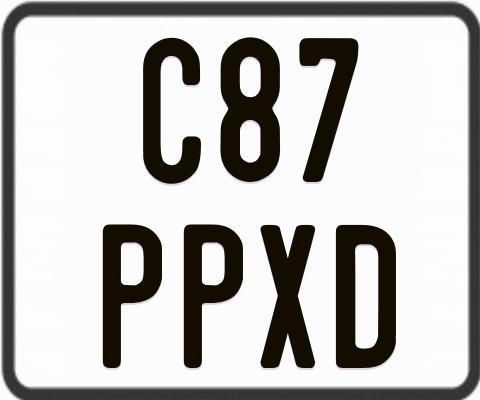7: (298, 37, 361, 187)
8: (219, 37, 279, 184)
C: (143, 37, 204, 189)
D: (336, 224, 399, 373)
P: (184, 222, 249, 367), (101, 224, 162, 369)
X: (259, 224, 314, 370)
